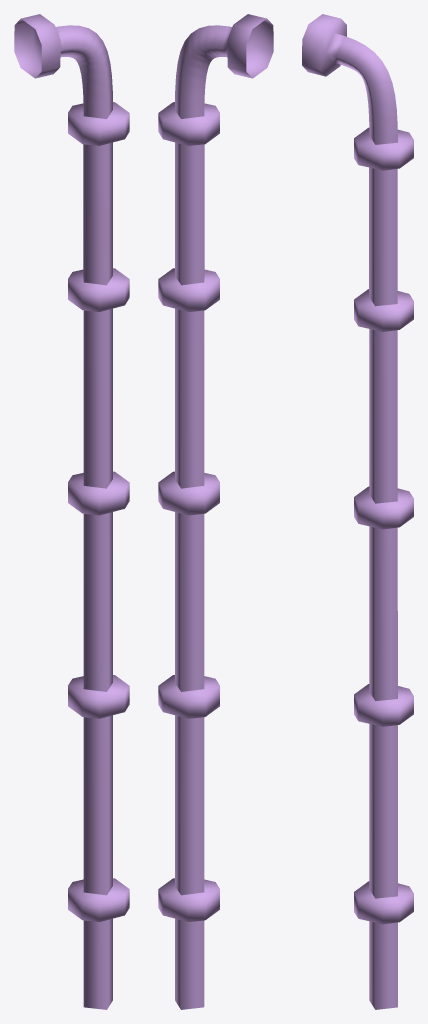
Rendered from G_Background_Pipe_D.fbx.
3 views of the same model, side by side, from view 1: azimuth 30°, elevation 25°; view 2: azimuth 150°, elevation 25°; view 3: azimuth 330°, elevation 25° (orthographic). The views are drawn at different scales.
Visible parts, largest first — view 1: G_Background_Pipe_D; view 2: G_Background_Pipe_D; view 3: G_Background_Pipe_D.
Boxes of the visible parts, left/top/right/bottom form: G_Background_Pipe_D: left=14, top=14, right=129, bottom=1009; G_Background_Pipe_D: left=158, top=14, right=273, bottom=1009; G_Background_Pipe_D: left=302, top=14, right=413, bottom=1009.
Size of the model in its own units: 128 by 1294 by 64.05.
